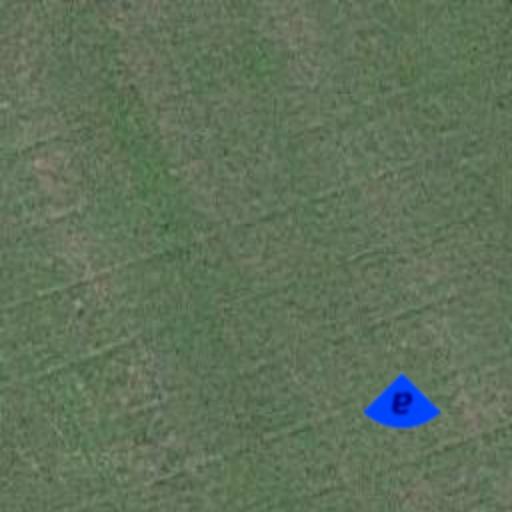quarter_circle: (364, 368, 440, 444)
